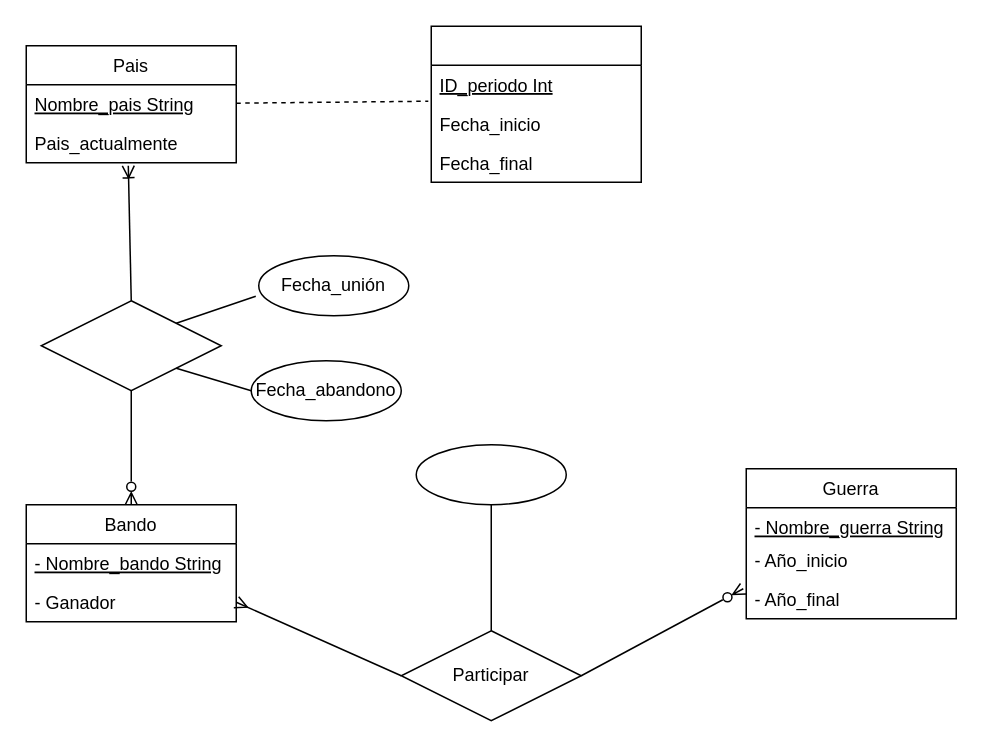
Image size: 983x747. Some labels were removed from this diagram. The shapes that lost their labels are listed below. From the top down, each one's box as (x1, y1, x2, y2) in pixels, then its label:
(430, 25, 641, 182): Periodo independencia
(40, 299, 221, 391): Pertenecer
(415, 443, 566, 505): Vencedor
